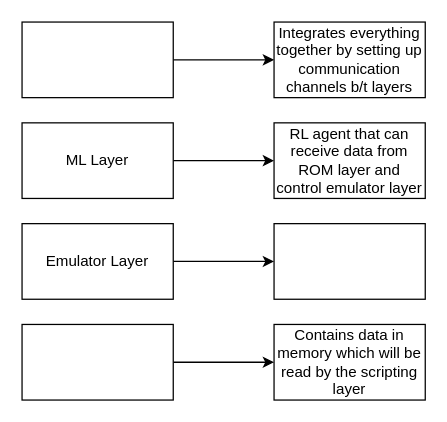
Some shapes in this 447 by 422 pixel diagram are drawn without their labels. Each missing label, with the centre of its shape:
"High-level API" belongs at (97,59).
"Interface for controlling the player character" belongs at (349,260).
"ROM Layer" belongs at (97,361).
